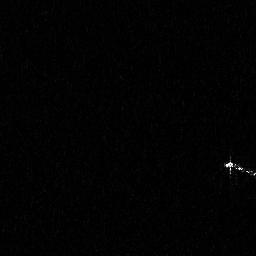ship: (222, 155, 256, 181)
